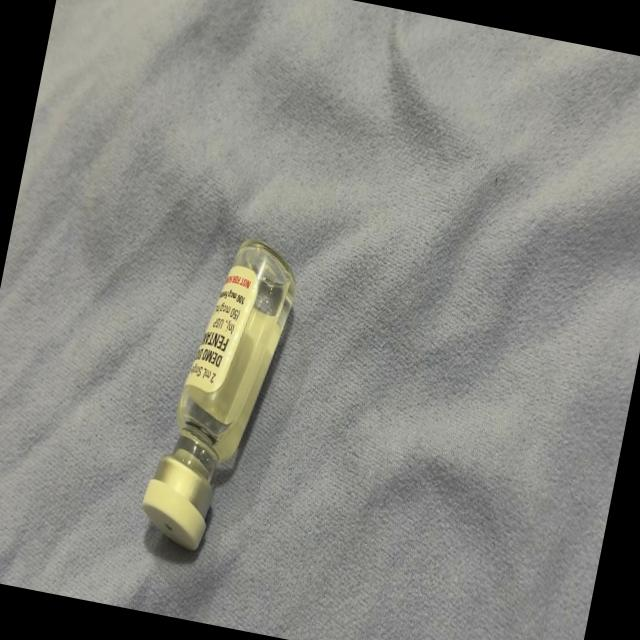fentanl_citrat: (138, 234, 302, 557)
